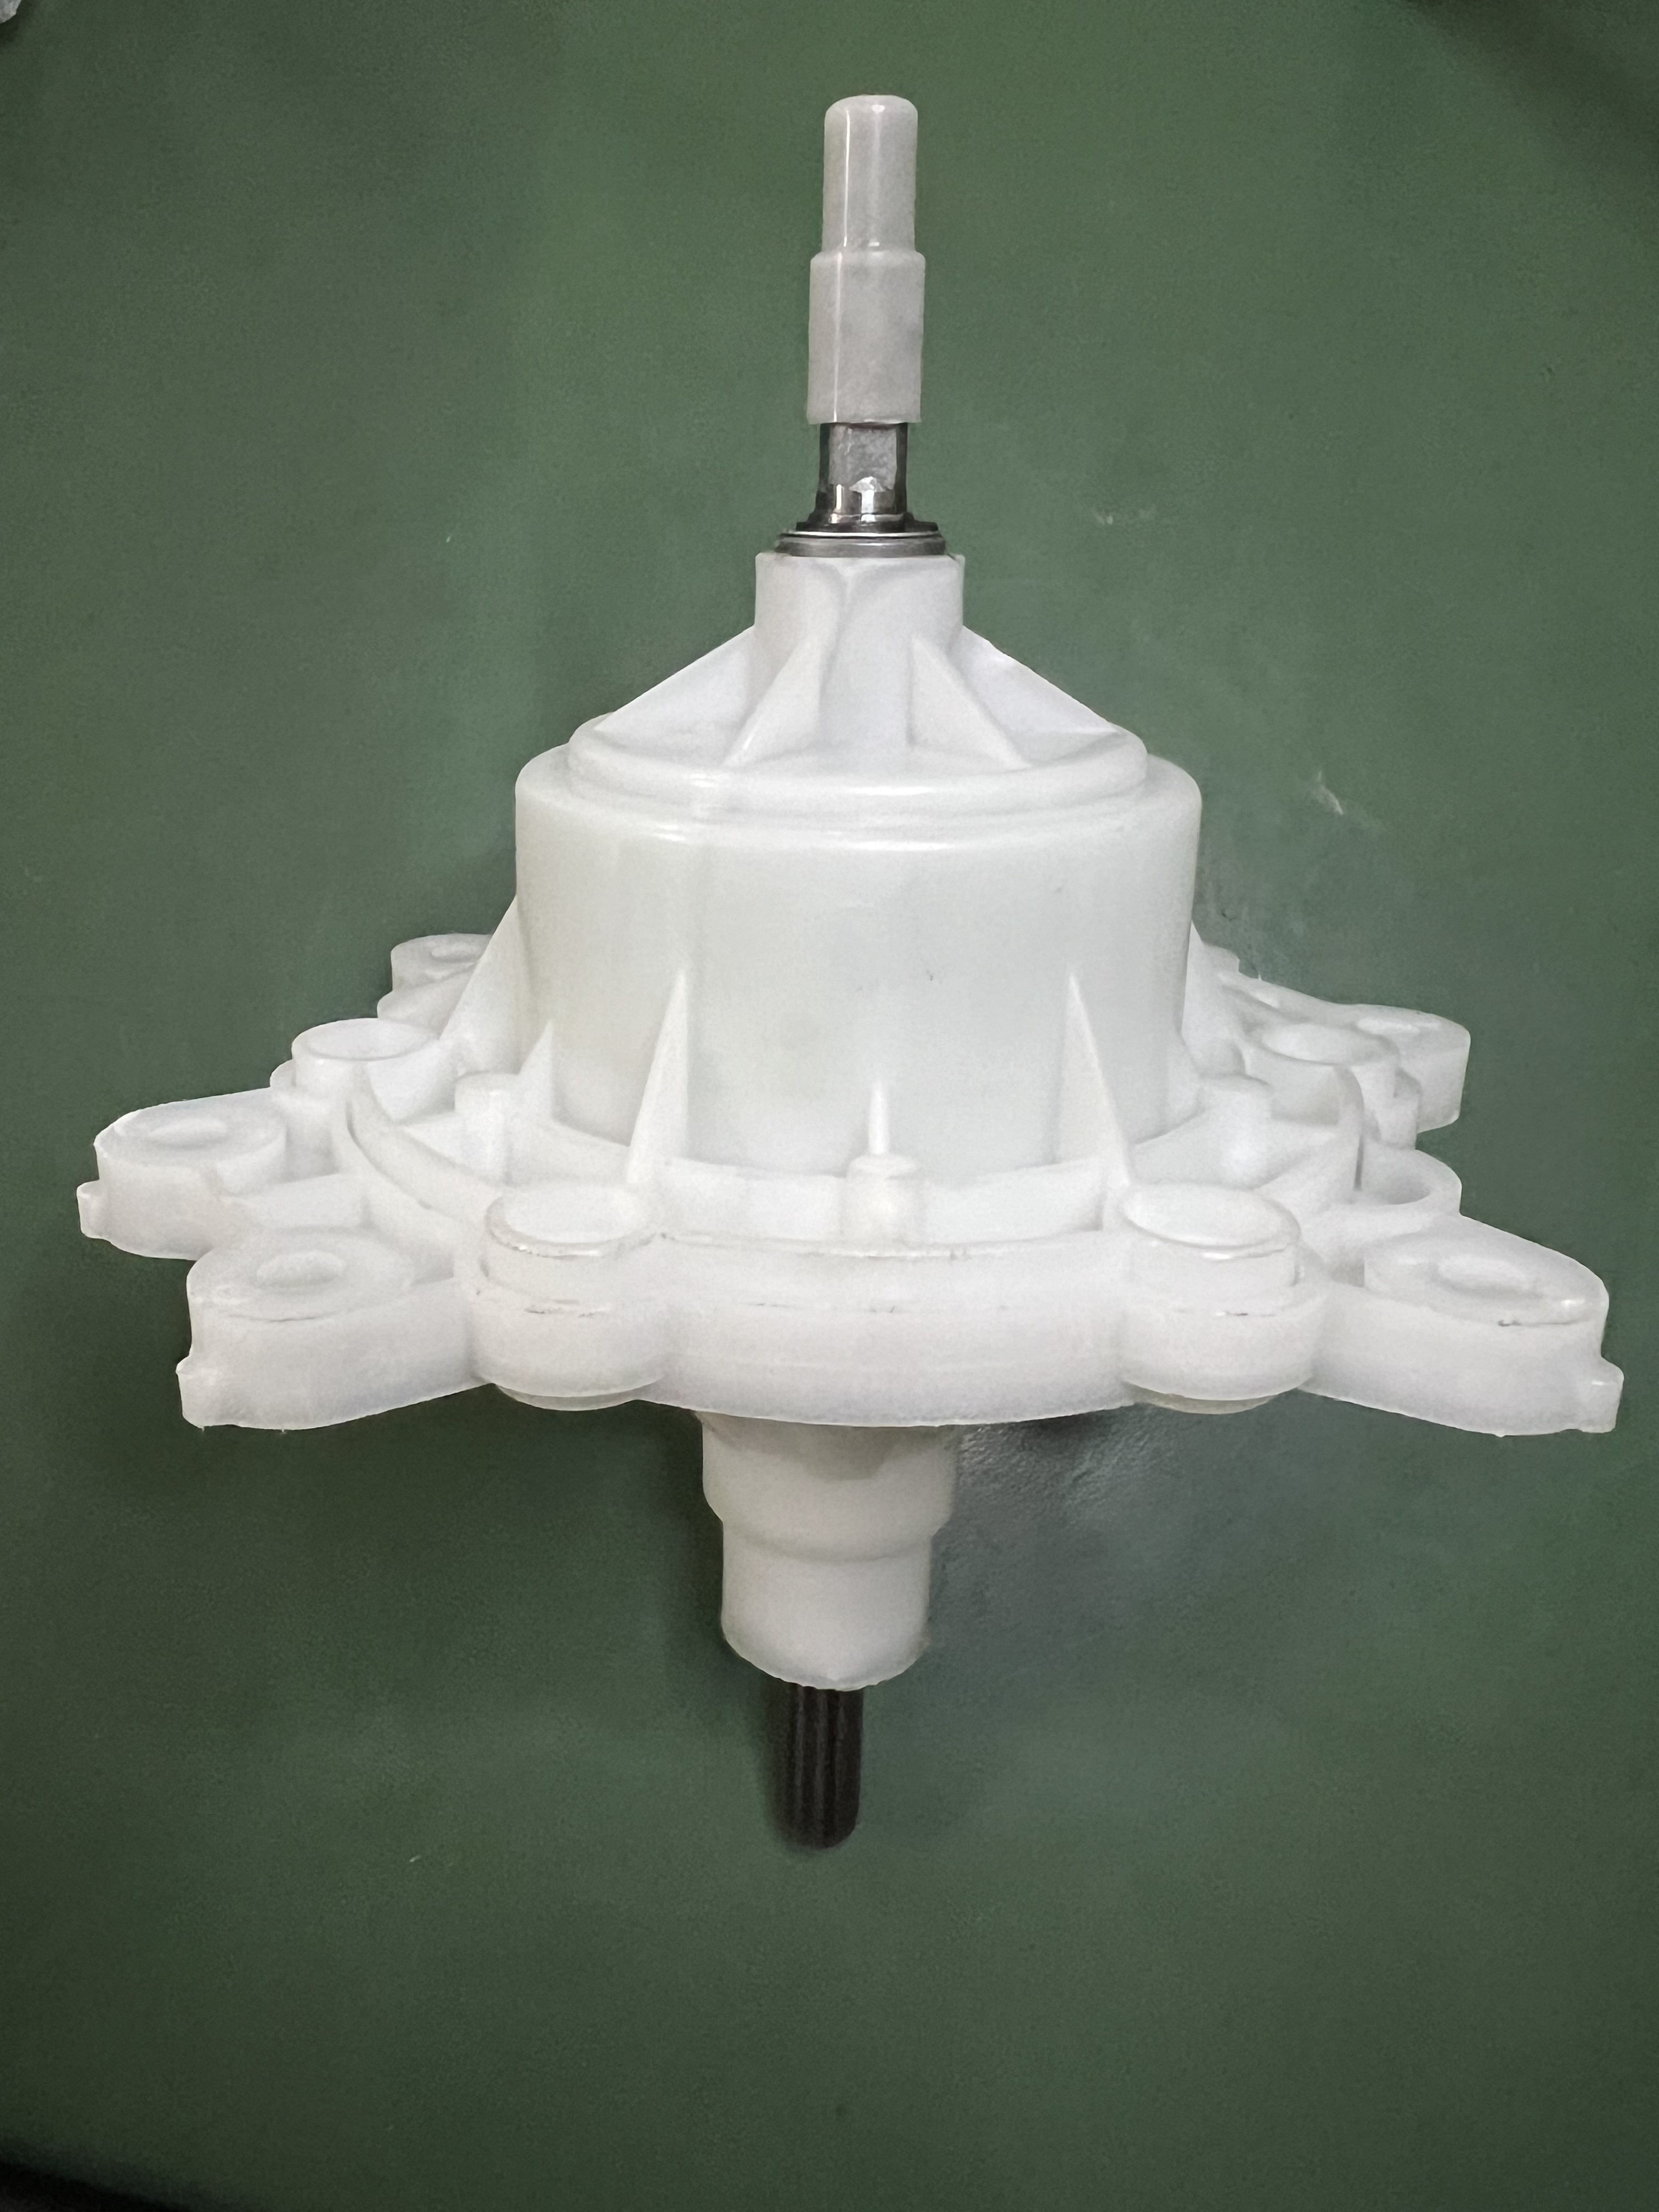gear_box_design: (70, 68, 1628, 1865)
